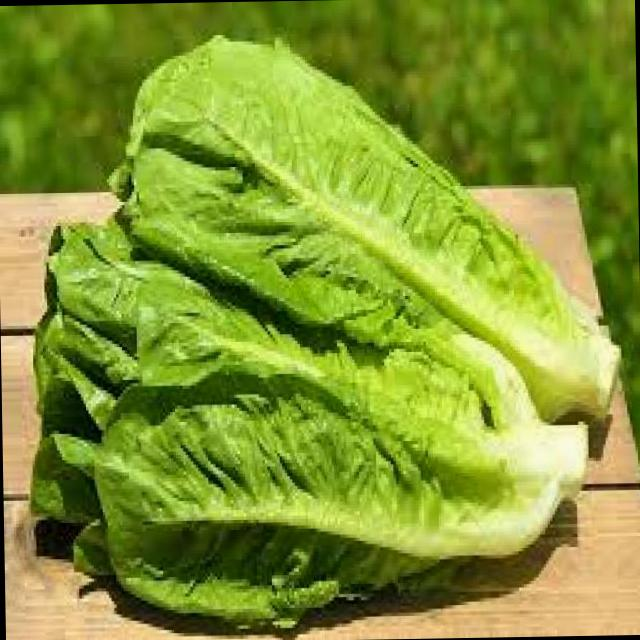Lettuce-Ready-to-Harvest: (32, 145, 563, 630), (128, 37, 615, 419)
